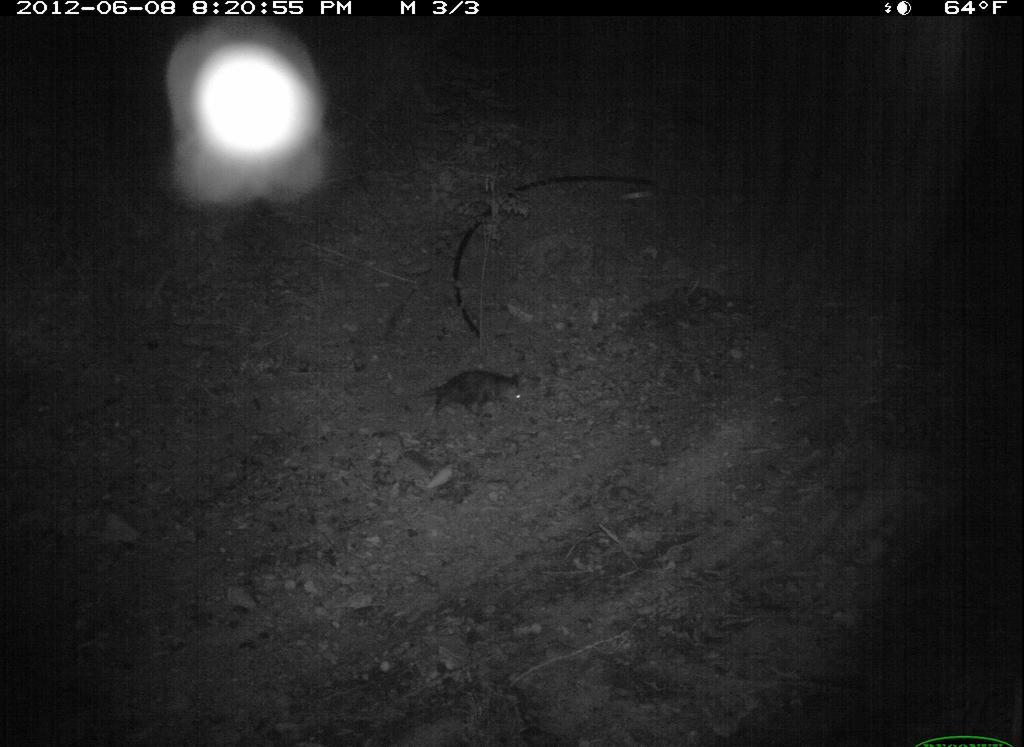opossum: (414, 364, 543, 428)
